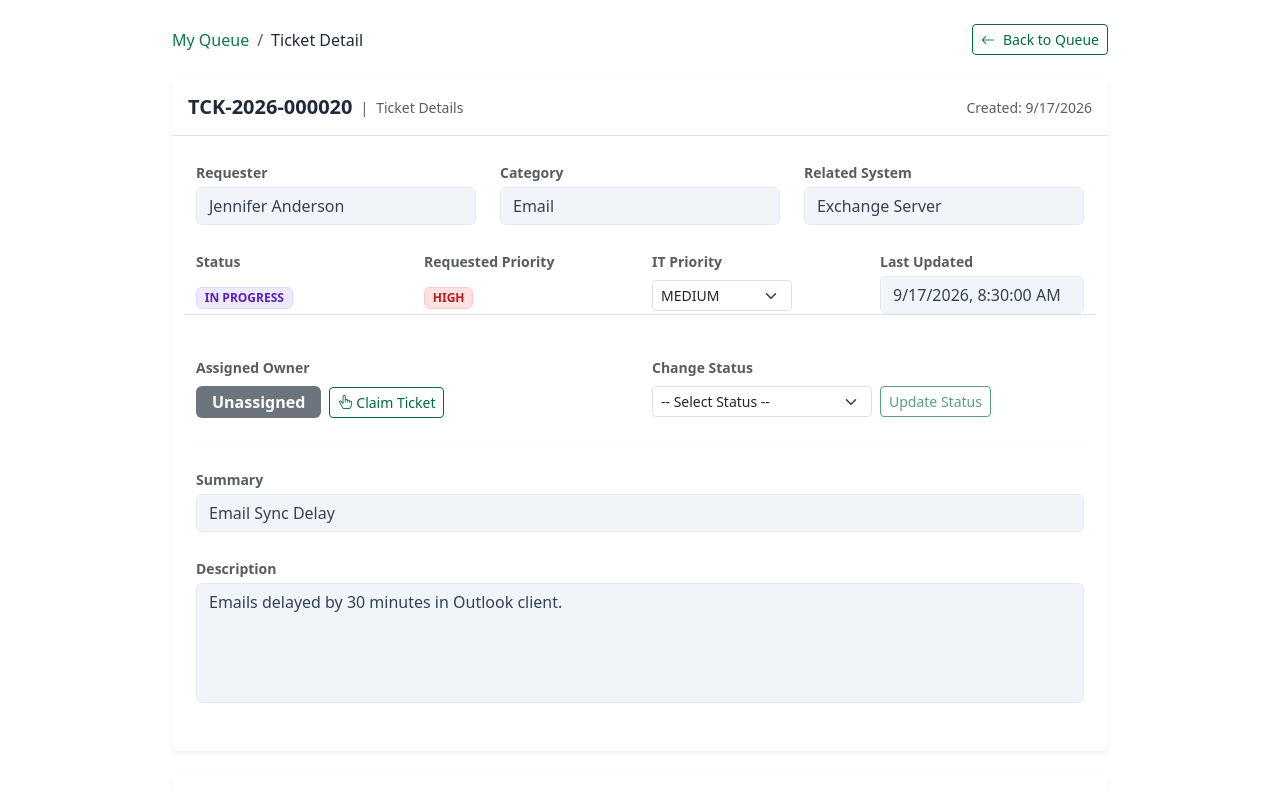
it: Ticket Workflow UI (Lab 4) › UI-23: a 409 RESOLUTION_GATE from the server lists its reasons and keeps the typed values
Select "Resolved" in the dropdown named "change status" at [762, 402], box top-left (652, 386), bottom-right (872, 417)
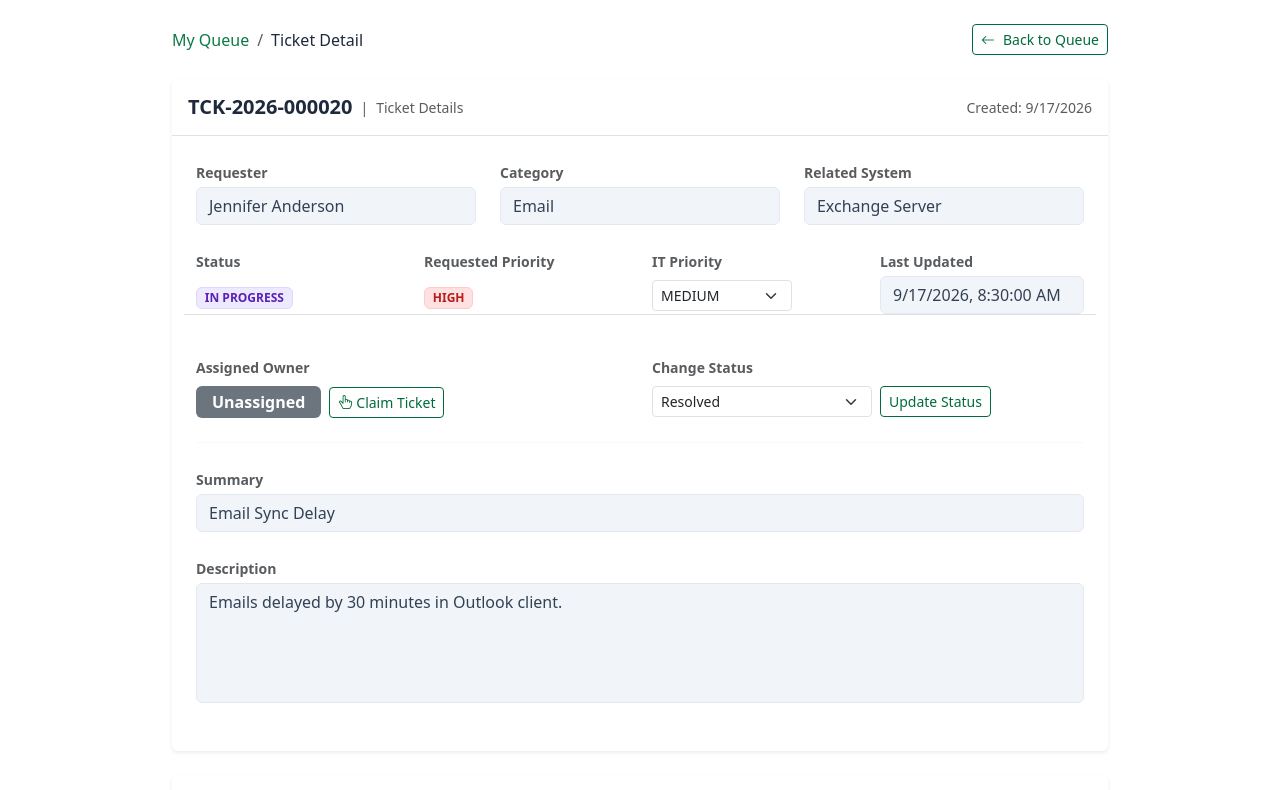
Click the button "Update Status" at [935, 402], box top-left (880, 386), bottom-right (991, 417)
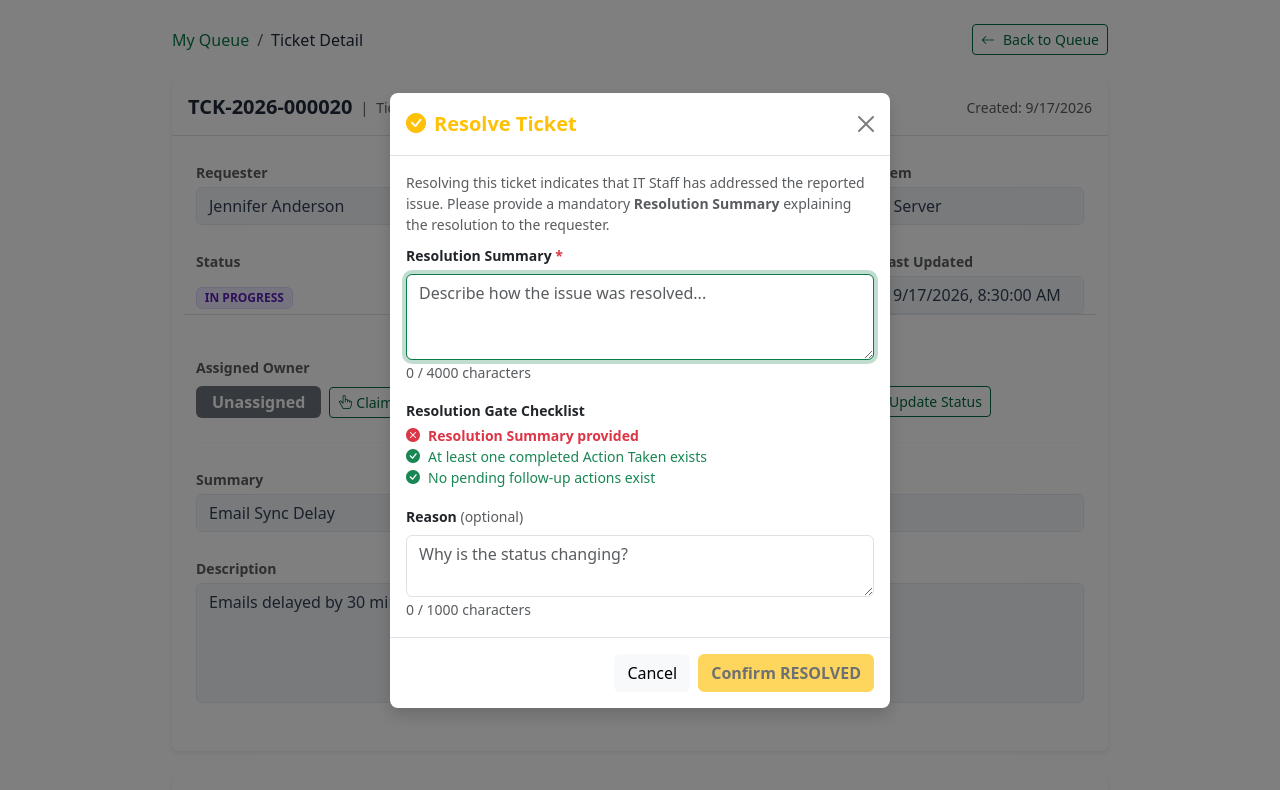
Result: the text "Resolve Ticket" is shown at top-left (406, 110), bottom-right (577, 136)
Type "Restarted the services." into the text box with placeholder "Describe how the issue was resolved..." at [640, 316], box top-left (406, 274), bottom-right (874, 360)
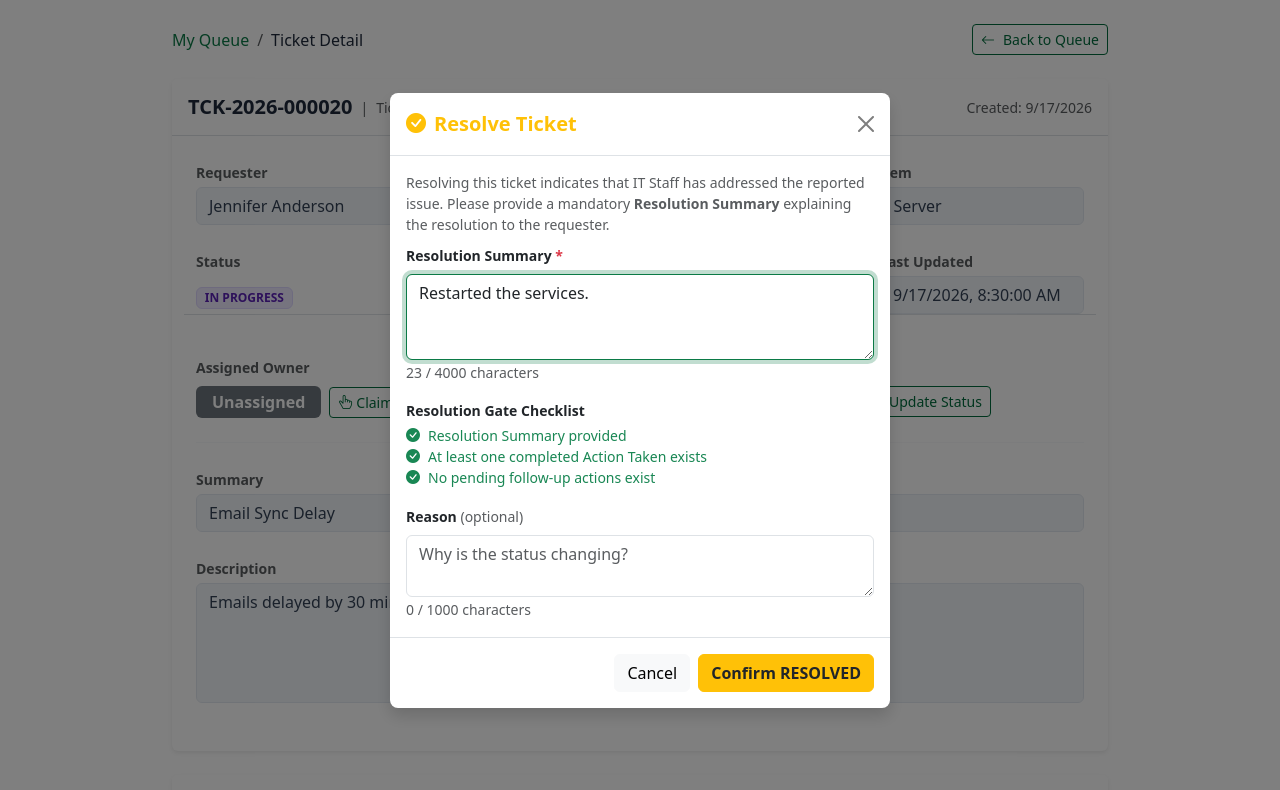
Type "Work finished" into the text box labelled "Reason (optional)" at [640, 566], box top-left (406, 534), bottom-right (874, 596)
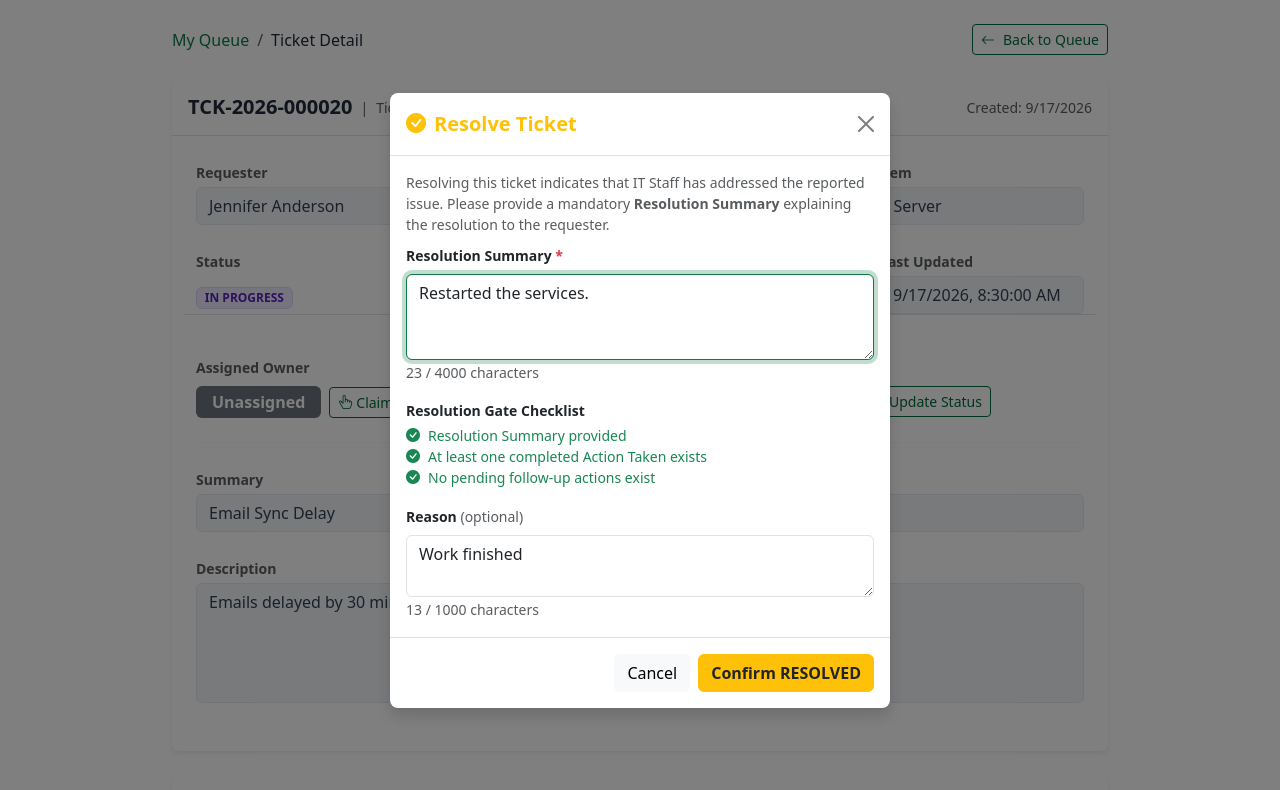
Result: the button "Confirm RESOLVED" is enabled
Click the button "Confirm RESOLVED" at [786, 672], box top-left (698, 654), bottom-right (874, 692)
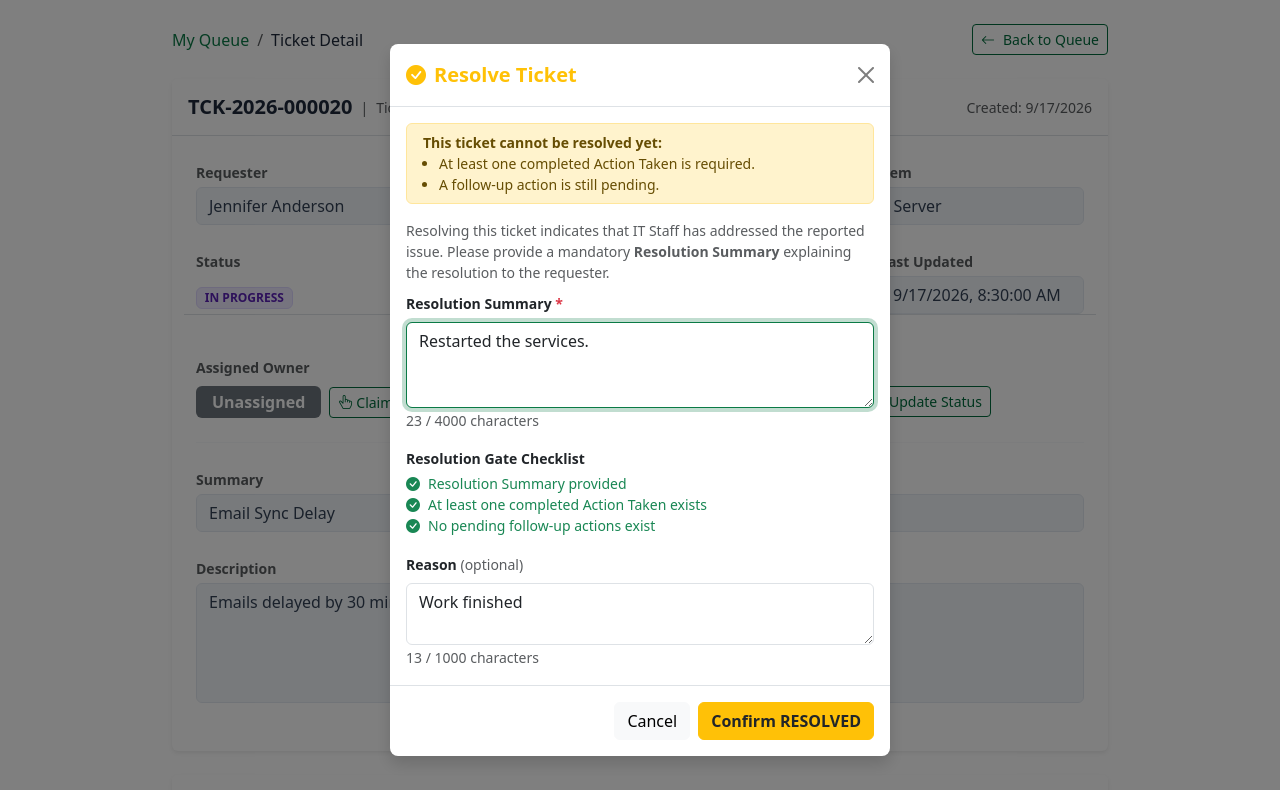
Result: the text "Resolve Ticket" is shown at top-left (406, 61), bottom-right (577, 88)
Result: the list item "At least one completed Action Taken is required." is shown at top-left (439, 154), bottom-right (755, 173)
Result: the list item "A follow-up action is still pending." is shown at top-left (439, 175), bottom-right (659, 194)
